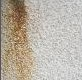Corrosion: (1, 1, 35, 80)
